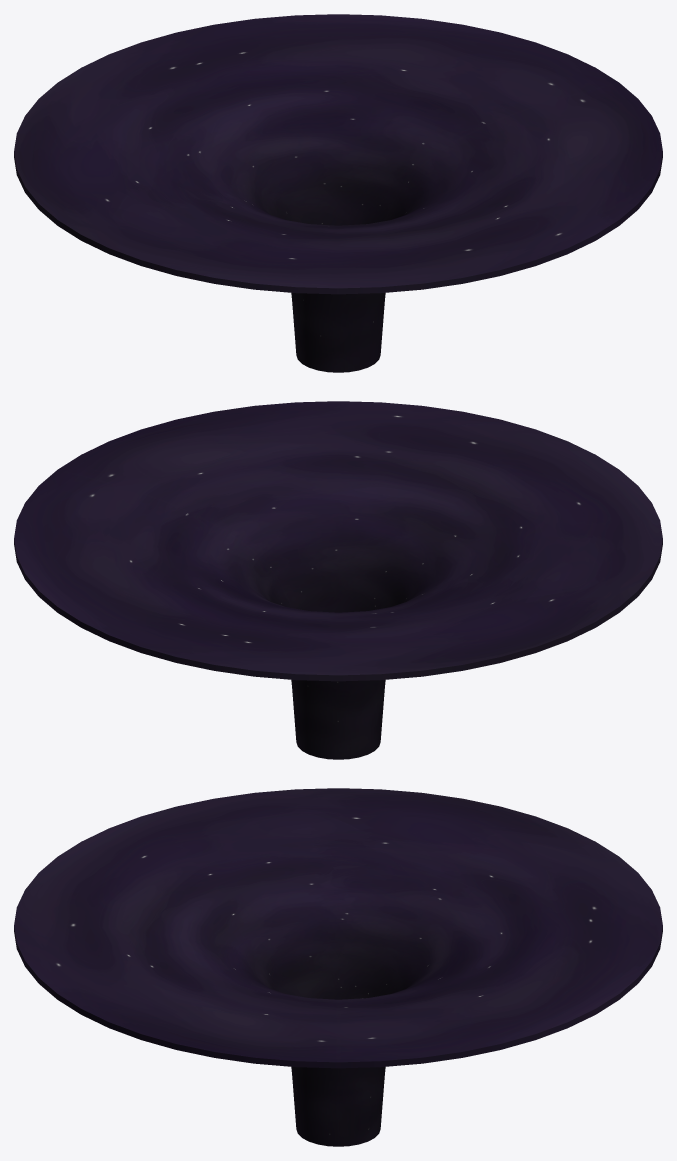
Rendered from HaH_TableMain.obj.
3 views of the same model, one above another, from view 1: azimuth 30°, elevation 25°; view 2: azimuth 150°, elevation 25°; view 3: azimuth 270°, elevation 25° (orthographic).
Visible parts, largest first — view 1: HaH_TableMain; view 2: HaH_TableMain; view 3: HaH_TableMain.
Boxes of the visible parts, <box> form: HaH_TableMain: <box>14,14,662,372</box>; HaH_TableMain: <box>14,401,662,759</box>; HaH_TableMain: <box>14,788,662,1146</box>.
Bounding box in the file's own units: 297 × 103 × 297.
